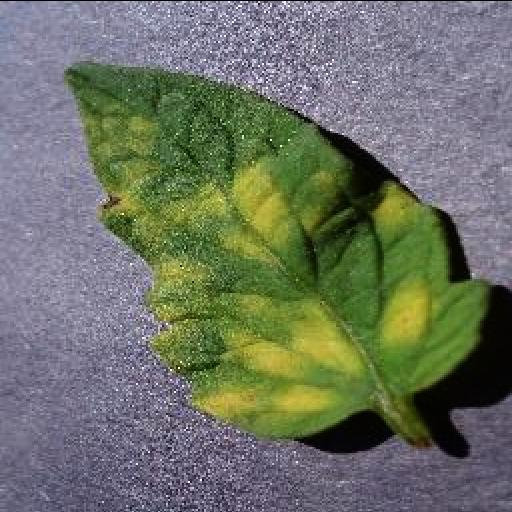disease_tomato: (64, 60, 492, 436)
